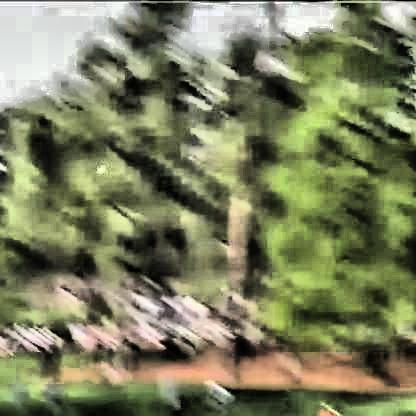golfball: (93, 164, 104, 174)
